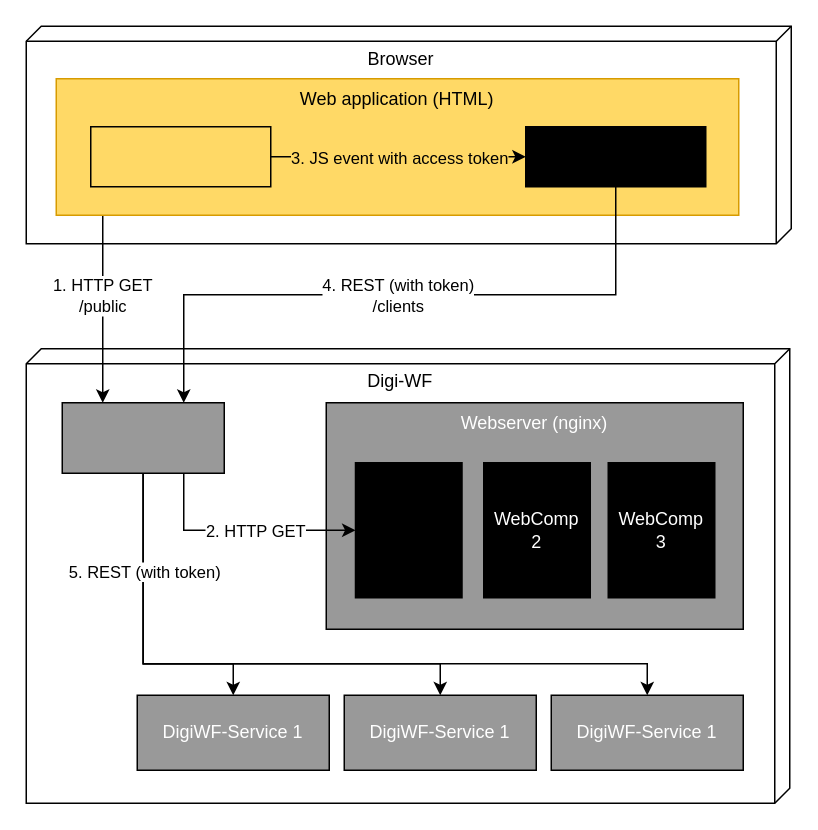
This 818x830 diagram has some shape labels left out. Each missing label, with the centre of its shape:
API-Gateway: the point at 142,437
Auth Component: the point at 180,156
DigiWF WebComp: the point at 615,156
WebComp 1: the point at 408,529
